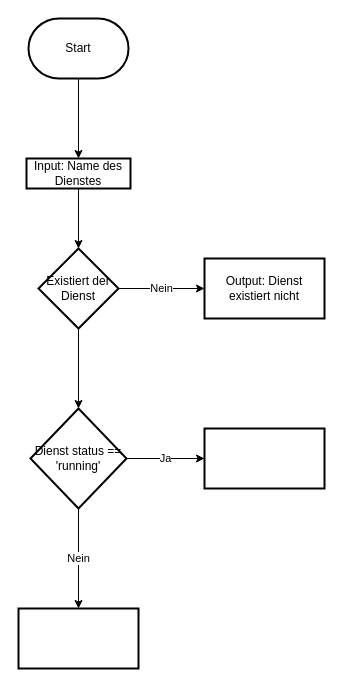
This 342x686 diagram has some shape labels left out. The box of each missing label's shape, as (x1, y1, x2, y2) in pixels:
Dienst läuft bereits: (203, 427, 325, 489)
Dienst starten: (17, 607, 139, 669)
